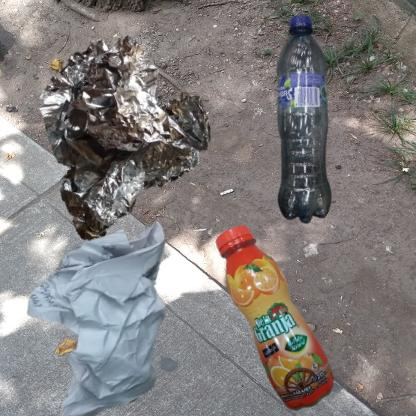aluminio: (10, 10, 259, 275)
botella: (213, 10, 416, 284), (213, 213, 354, 416)
papel: (10, 213, 222, 416)
